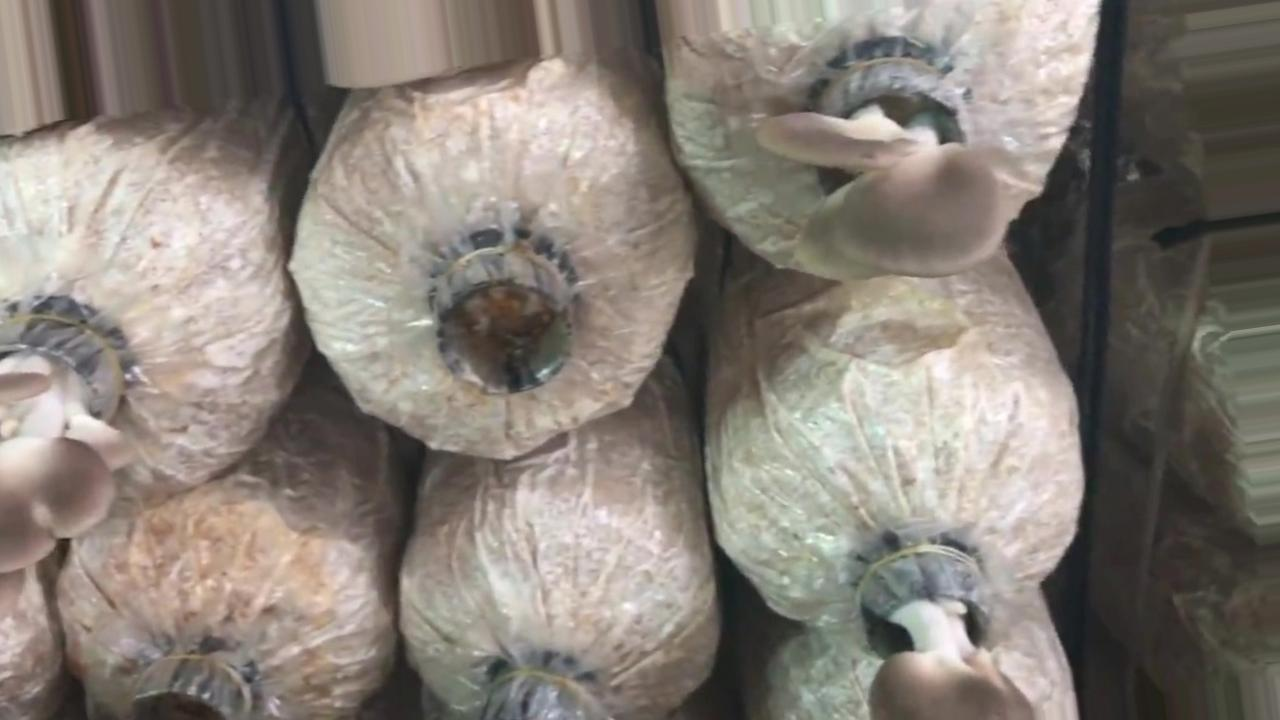nam: (760, 45, 1009, 280), (1, 321, 136, 573), (868, 543, 1030, 720)
